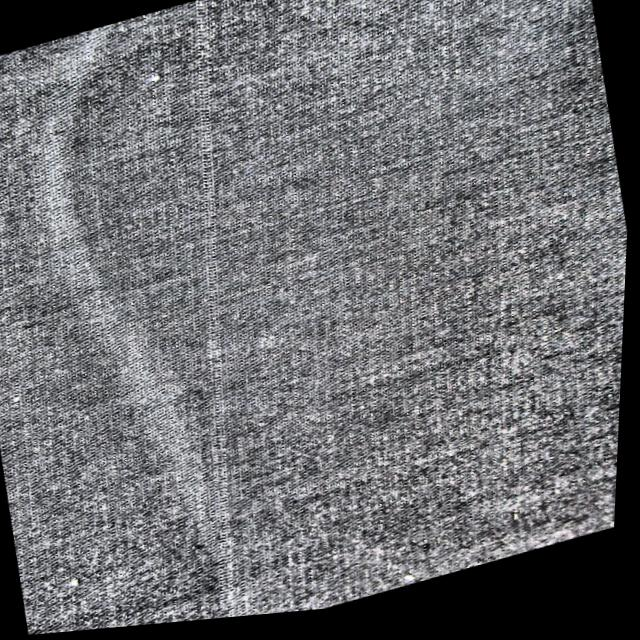Stitch: (155, 73, 261, 172), (169, 309, 259, 404), (161, 199, 252, 286), (193, 433, 271, 503), (156, 0, 243, 59), (193, 582, 275, 625)
